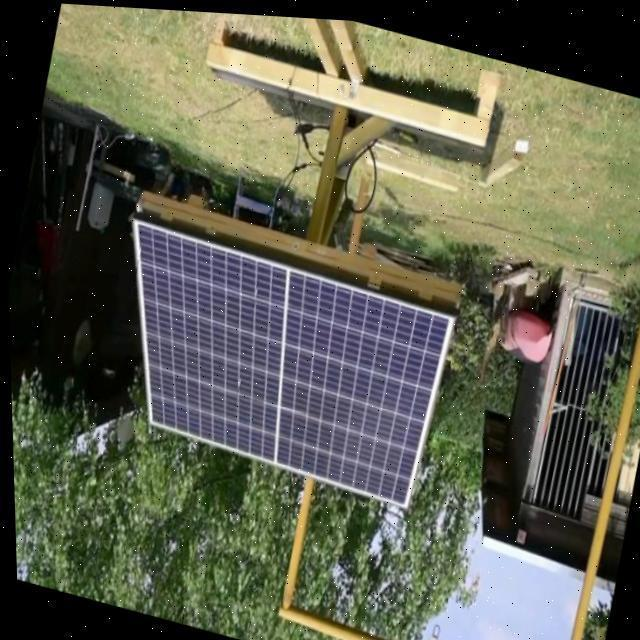Normal Solar Panel: (89, 212, 458, 508)
